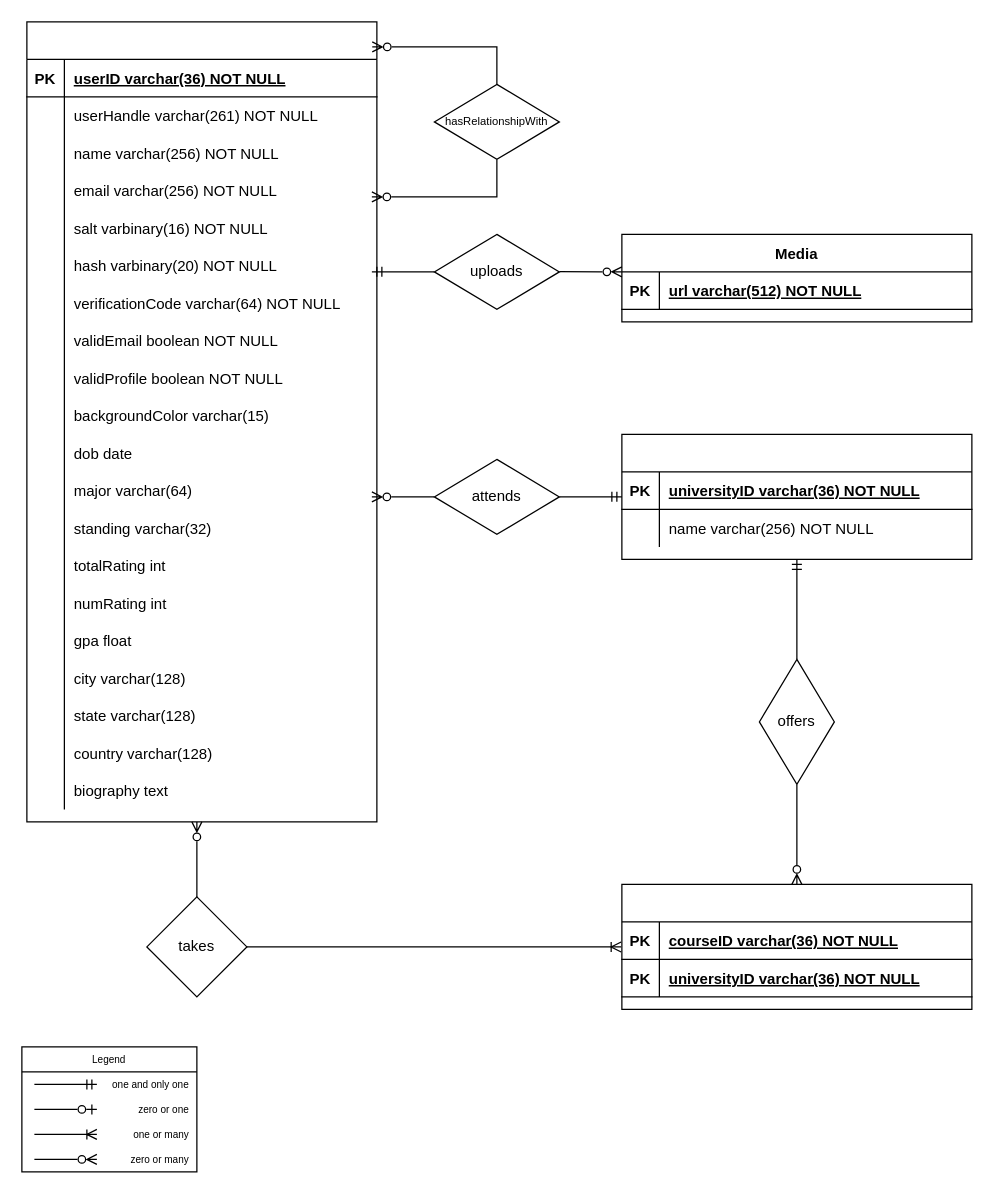
Image size: 994x1194. Some labels were removed from this diagram. The shapes that lost their labels are listed below. From the top down, each one's box as (x1, y1, x2, y2) in pixels, then its label:
(26, 21, 377, 822): Users
(621, 433, 972, 559): Universities
(621, 883, 972, 1009): Courses
